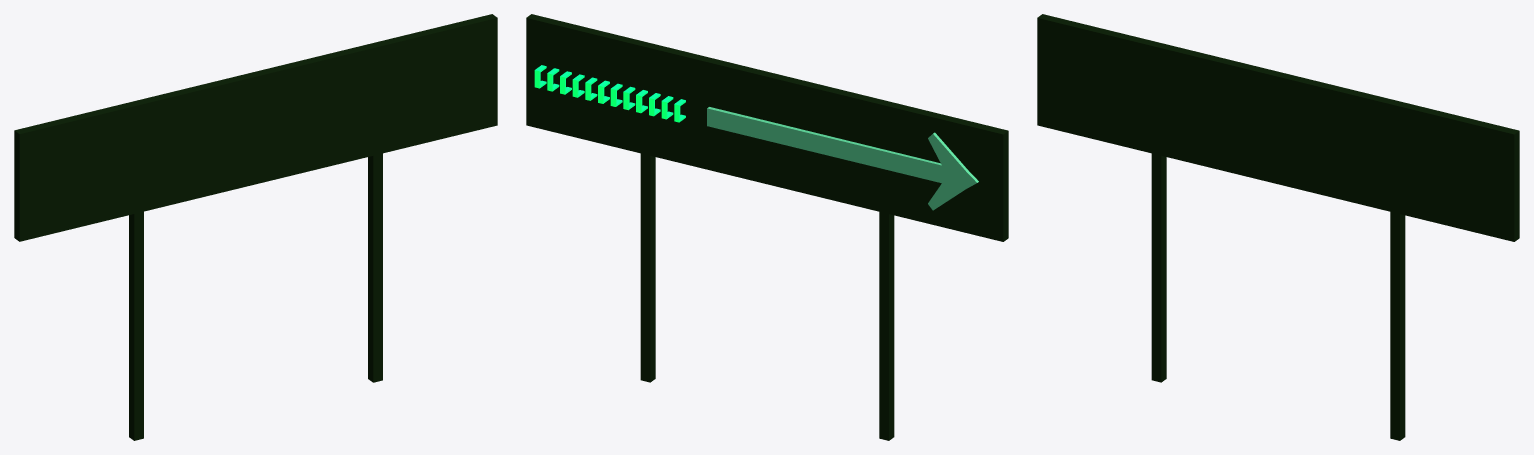
File: Signal_02.fbx
3 renders of one model, left to right at view 1: azimuth 30°, elevation 25°; view 2: azimuth 150°, elevation 25°; view 3: azimuth 330°, elevation 25°, orthographic.
Parts seen in each view (by area): view 1: Cube.058; view 2: Cube.058; view 3: Cube.058.
Part boxes in pixels (x1,y1,x2,y2): Cube.058: (14, 14, 497, 440); Cube.058: (526, 14, 1008, 440); Cube.058: (1037, 14, 1519, 440).
Size of the model in its own units: 330 by 221 by 15.54.
